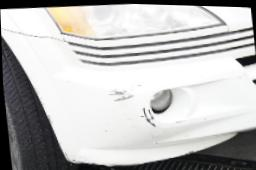Bumper: (95, 68, 160, 139)
